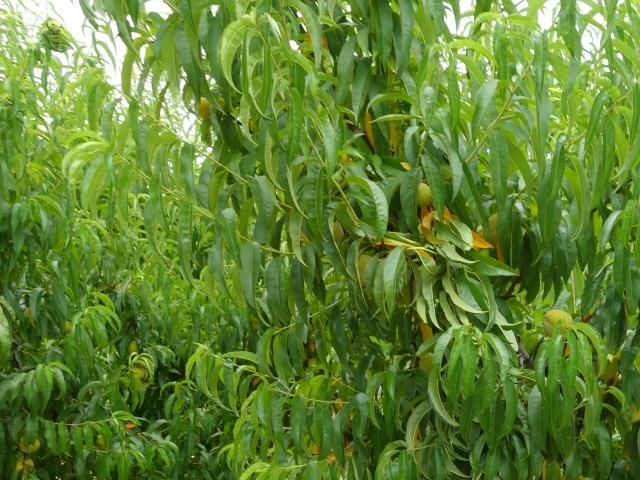peach: (541, 304, 579, 337), (411, 181, 436, 212), (417, 349, 439, 377), (194, 96, 213, 122)
